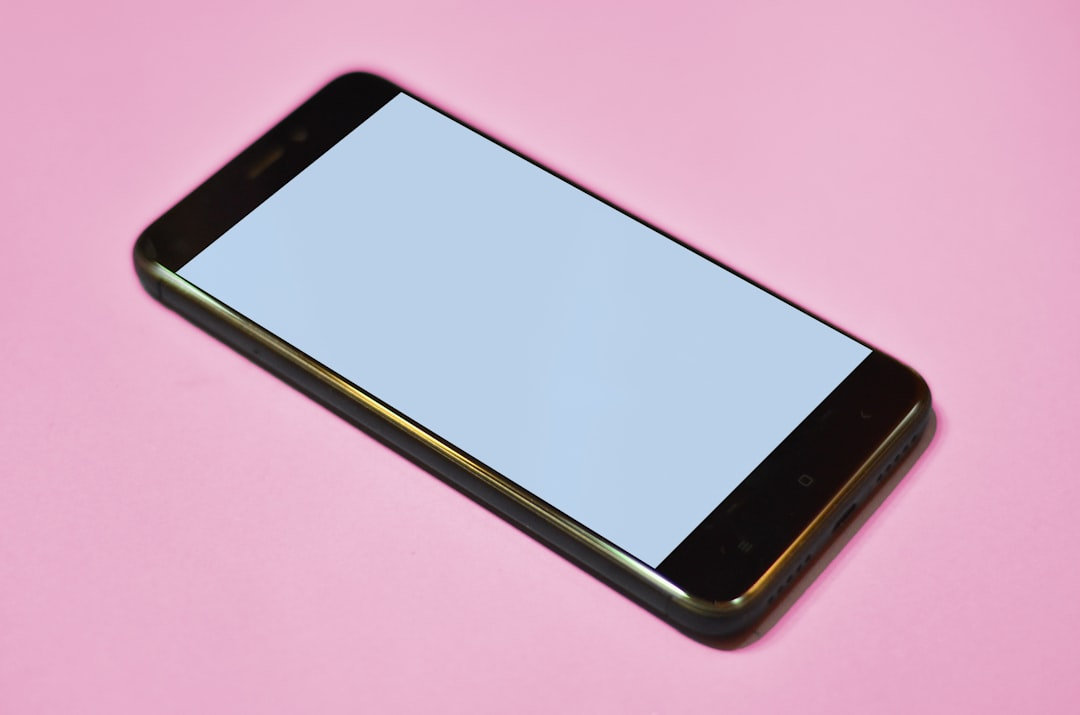phone: (133, 72, 932, 642)
